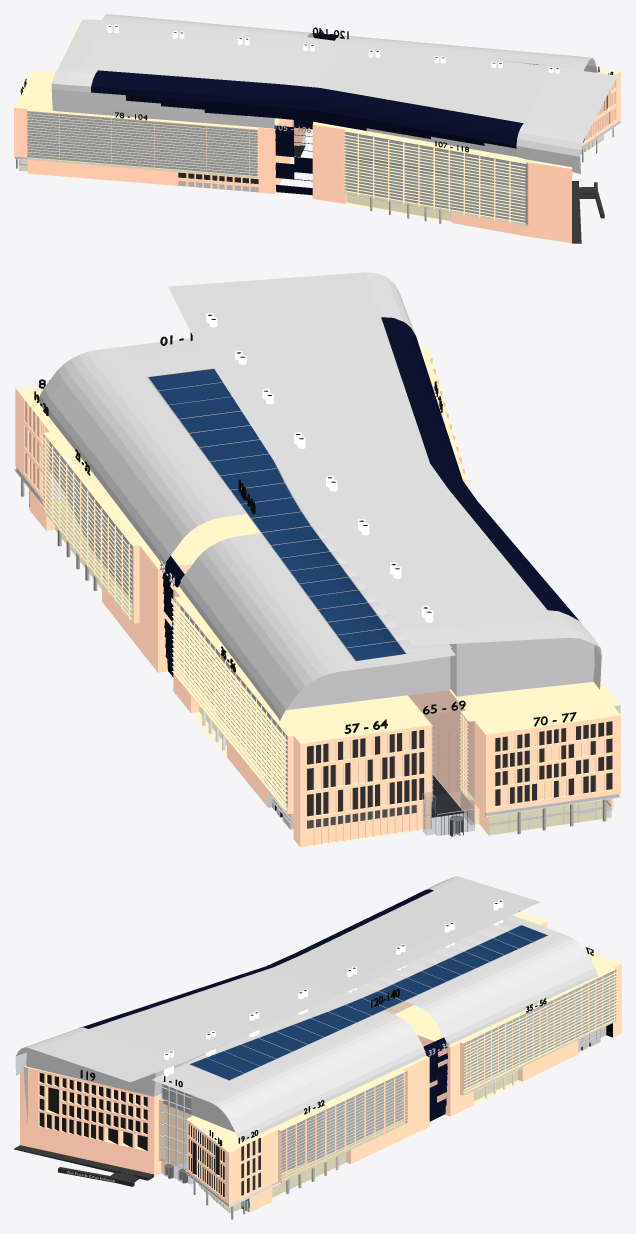
The model's file is TheCrick.glb.
The picture shows the model from 3 angles, top to bottom: view 1: azimuth 30°, elevation 25°; view 2: azimuth 150°, elevation 25°; view 3: azimuth 270°, elevation 25°; orthographic projection. The views are drawn at different scales.
Visible parts, largest first — view 1: Roof Left, Plane.005, Block, Roof Right, Plane.003, Drop105, Drop118, Drop115, Drop108, Drop109, Drop114, Drop110 (+35 smaller); view 2: Roof Left, Roof Right, Plane.002, Block, Plane.003, Entrance, Drop121, Drop120, Drop122, Plane.005, Drop123, Drop124 (+6 smaller); view 3: Roof Right, Roof Left, Plane.003, Plane.002, Plane.005, Drop119, Cube., Cube, Drop33, Drop34, Drop21, Cylinder.019 (+6 smaller).
Part boxes in pixels (x1=…): Roof Left: x1=51, y1=19, x2=617, y2=188; Plane.005: x1=312, y1=122, x2=572, y2=242; Block: x1=14, y1=71, x2=292, y2=193; Roof Right: x1=102, y1=14, x2=597, y2=72; Plane.003: x1=580, y1=69, x2=621, y2=154; Drop105: x1=274, y1=126, x2=294, y2=193; Drop118: x1=511, y1=161, x2=525, y2=225; Drop115: x1=465, y1=153, x2=478, y2=216; Drop108: x1=359, y1=134, x2=372, y2=197; Drop109: x1=374, y1=137, x2=387, y2=200; Drop114: x1=450, y1=151, x2=463, y2=214; Drop110: x1=389, y1=140, x2=403, y2=203; Roof Left: x1=168, y1=272, x2=601, y2=696; Roof Right: x1=39, y1=337, x2=455, y2=806; Plane.002: x1=172, y1=587, x2=433, y2=847; Block: x1=379, y1=652, x2=621, y2=835; Plane.003: x1=14, y1=388, x2=260, y2=672; Entrance: x1=408, y1=690, x2=474, y2=835; Drop121: x1=158, y1=382, x2=231, y2=404; Drop120: x1=148, y1=369, x2=222, y2=390; Drop122: x1=169, y1=397, x2=240, y2=418; Plane.005: x1=419, y1=347, x2=468, y2=487; Drop123: x1=179, y1=411, x2=250, y2=432; Drop124: x1=190, y1=425, x2=259, y2=447; Roof Right: x1=152, y1=915, x2=613, y2=1172; Roof Left: x1=15, y1=876, x2=540, y2=1096; Plane.003: x1=185, y1=1056, x2=429, y2=1213; Plane.002: x1=394, y1=950, x2=621, y2=1116; Plane.005: x1=20, y1=1066, x2=192, y2=1176; Drop119: x1=39, y1=1073, x2=147, y2=1150; Cube.: x1=157, y1=1086, x2=193, y2=1183; Cube: x1=14, y1=1145, x2=153, y2=1180; Drop33: x1=423, y1=1042, x2=438, y2=1121; Drop34: x1=434, y1=1037, x2=447, y2=1118; Drop21: x1=282, y1=1125, x2=295, y2=1182; Cylinder.019: x1=249, y1=922, x2=454, y2=1036.
Bounding box in the file's own units: 232 × 50.96 × 231.
Materials: 30 (1 with a texture image).
